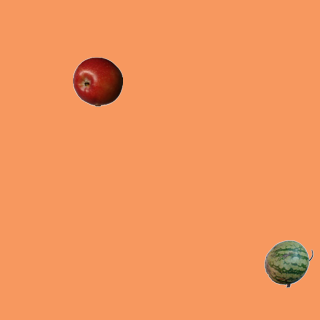Apple Braeburn: (72, 56, 122, 106)
Watermelon: (263, 238, 313, 288)
